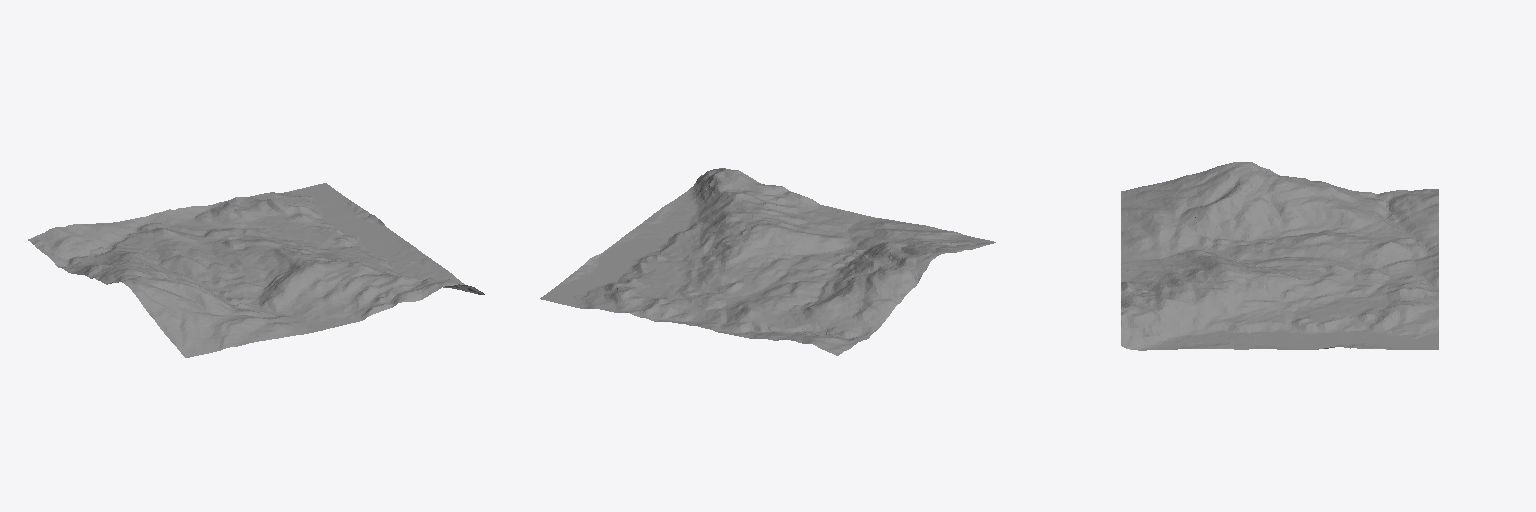
The model's file is terrain.obj.
3 renders of one model, left to right at view 1: azimuth 30°, elevation 25°; view 2: azimuth 150°, elevation 25°; view 3: azimuth 270°, elevation 25°, orthographic.
Visible parts, largest first — view 1: Location_T014; view 2: Location_T014; view 3: Location_T014.
Boxes of the visible parts, x1=… form: Location_T014: x1=28, y1=183, x2=484, y2=357; Location_T014: x1=540, y1=168, x2=995, y2=355; Location_T014: x1=1121, y1=162, x2=1438, y2=350.
Size of the model in its own units: 59.33 by 8.22 by 54.66.